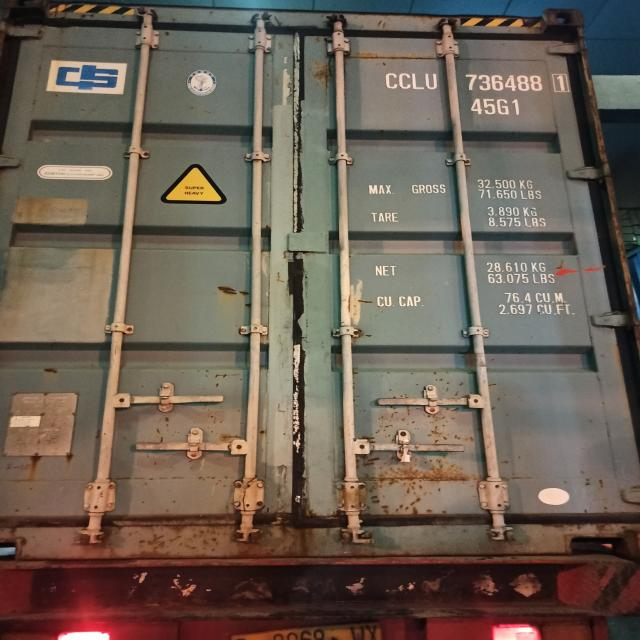seal: (399, 438, 412, 463)
